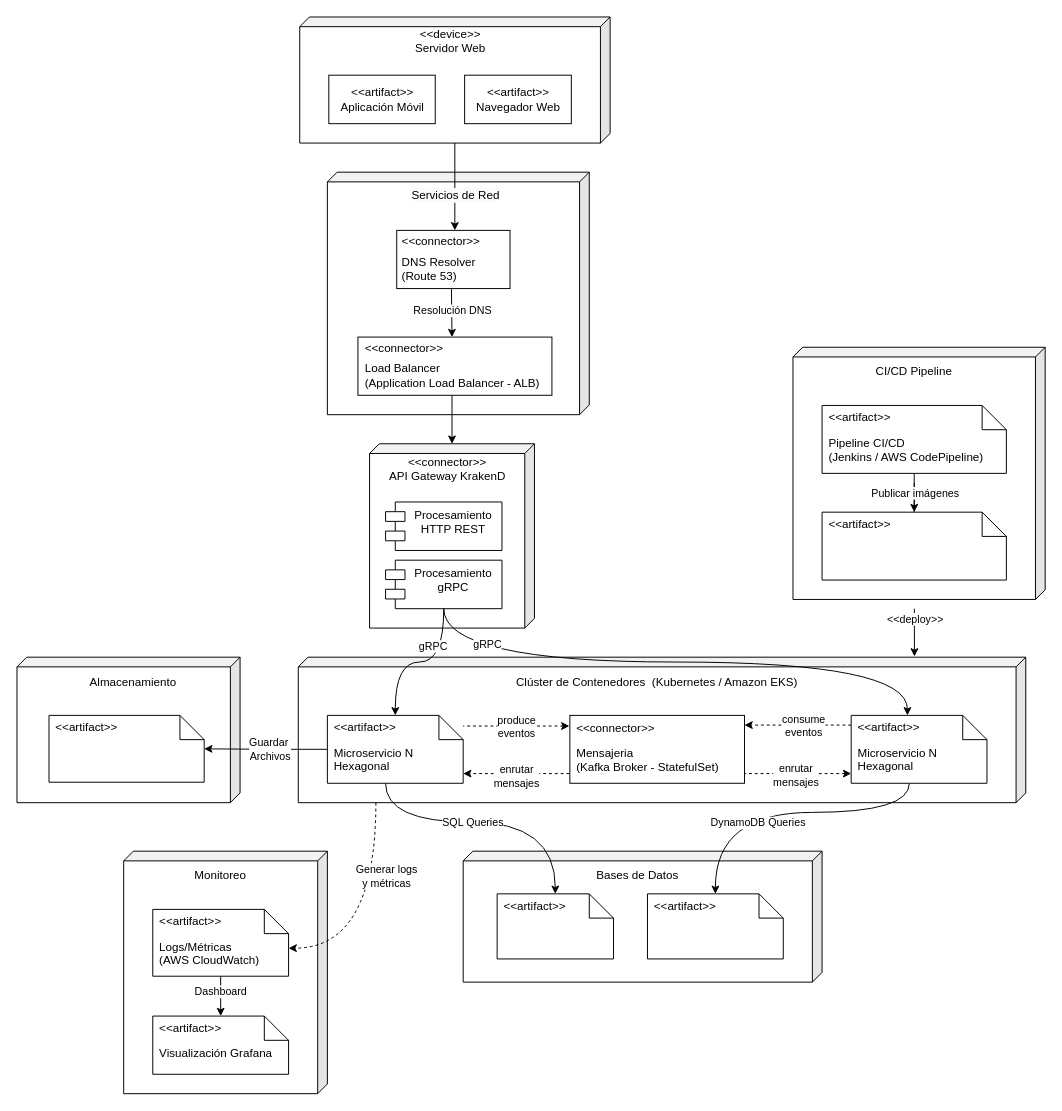
Image size: 1062x1111. Some labels were removed from this diagram. Here are the shapes that lost their labels. From the top down, the centre of each, then its label:
At (x=913, y=545): "Registro de contenedores (Amazon ECR, Docker Hub)".
At (x=126, y=748): "Almacenamiento Estático ( Amazon S3 )".
At (x=555, y=926): "BD Relacional (Amazon RDS)".
At (x=715, y=926): "BD No Relacional ( Amazon DynamoDB )".
